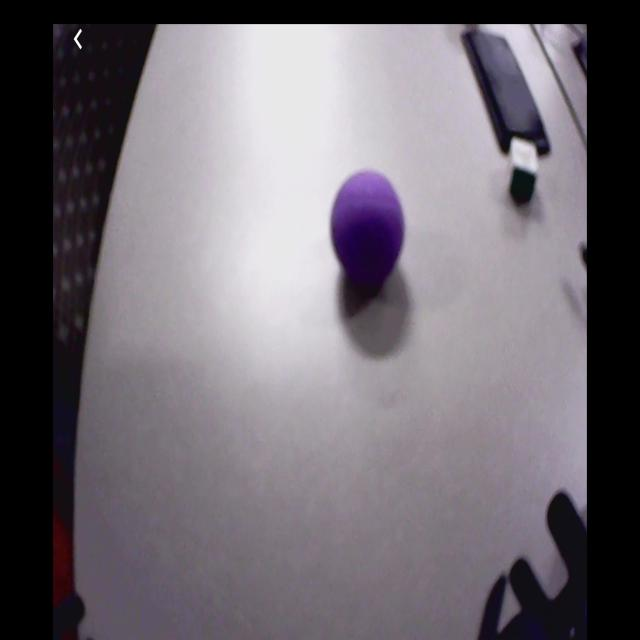ball: (331, 171, 405, 285)
